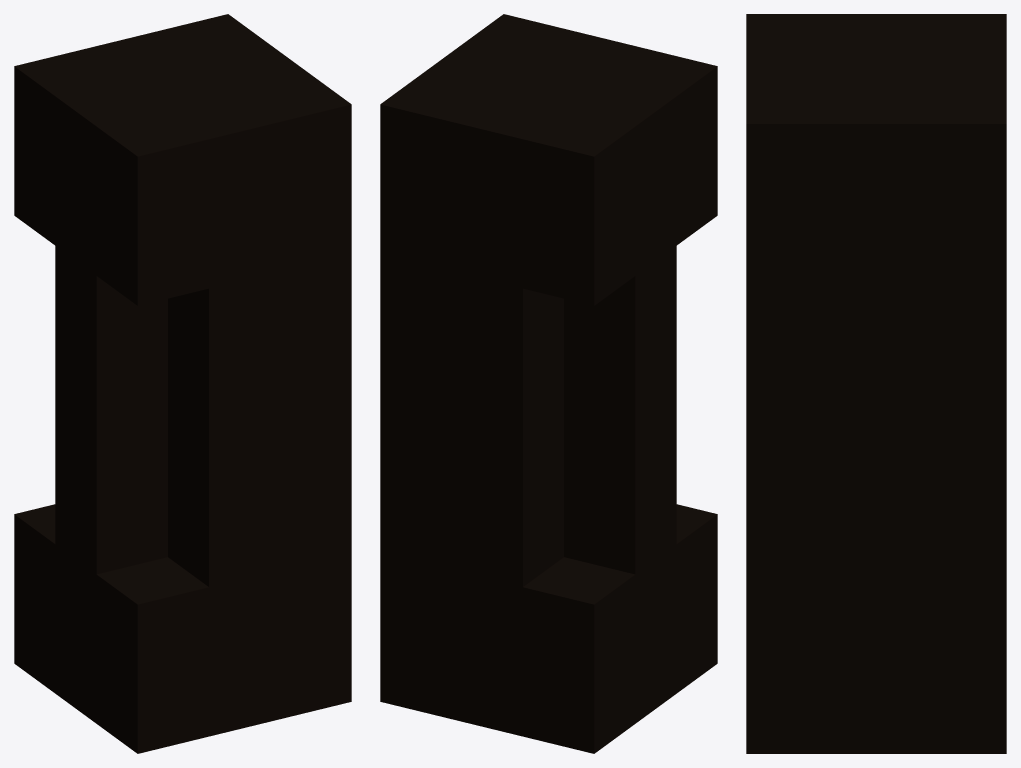
Rendered from ShortRecurveBow-4-Middle.obj.
The picture shows the model from 3 angles, left to right: view 1: azimuth 30°, elevation 25°; view 2: azimuth 150°, elevation 25°; view 3: azimuth 270°, elevation 25°; orthographic projection. The views are drawn at different scales.
Parts seen in each view (by area): view 1: ShortRecurveBow-4-Middle; view 2: ShortRecurveBow-4-Middle; view 3: ShortRecurveBow-4-Middle.
Boxes of the visible parts, x1,y1,x2,y2 form: ShortRecurveBow-4-Middle: (14,14,351,753); ShortRecurveBow-4-Middle: (380,14,717,753); ShortRecurveBow-4-Middle: (746,14,1006,753).
Size of the model in its own units: 3 by 8 by 3.
